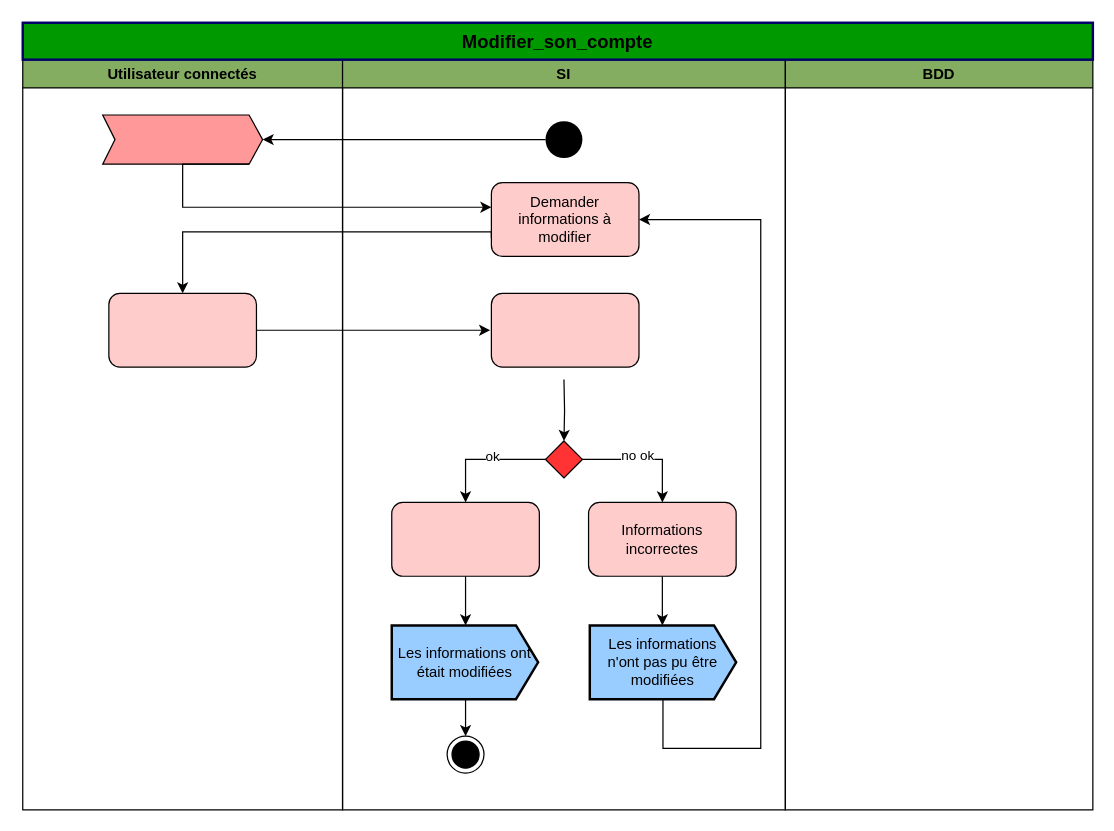
Image size: 1114x831. Some labels were removed from this diagram. The centre of each missing label's shape, as x and y in pixels:
Cliquer sur Modifier compte: [182,139]
Informations correctes: [465,538]
Saisir informations modifiées: [182,329]
Vérifier informations modifiées: [564,329]
